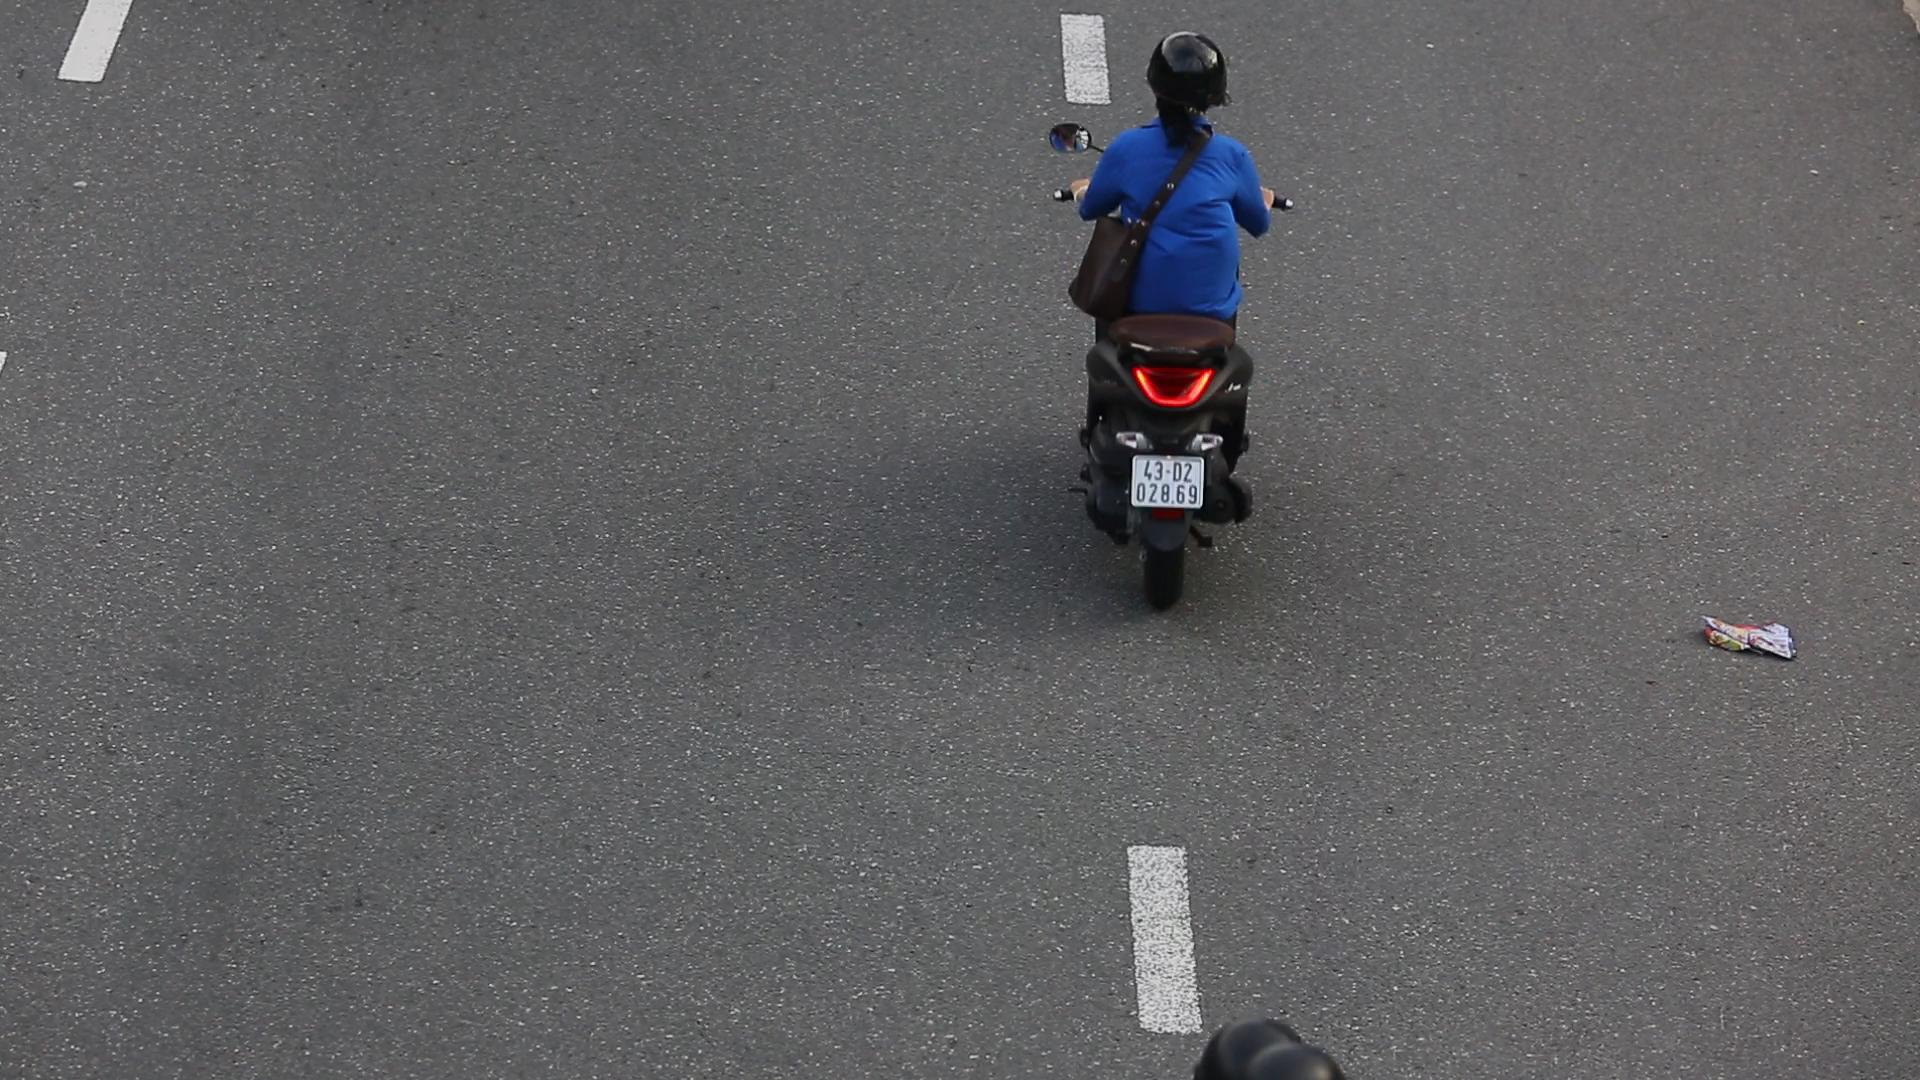motobike: (1039, 12, 1316, 640)
